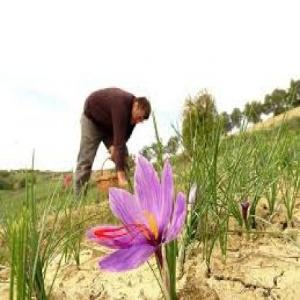Saffron: (91, 157, 186, 271)
